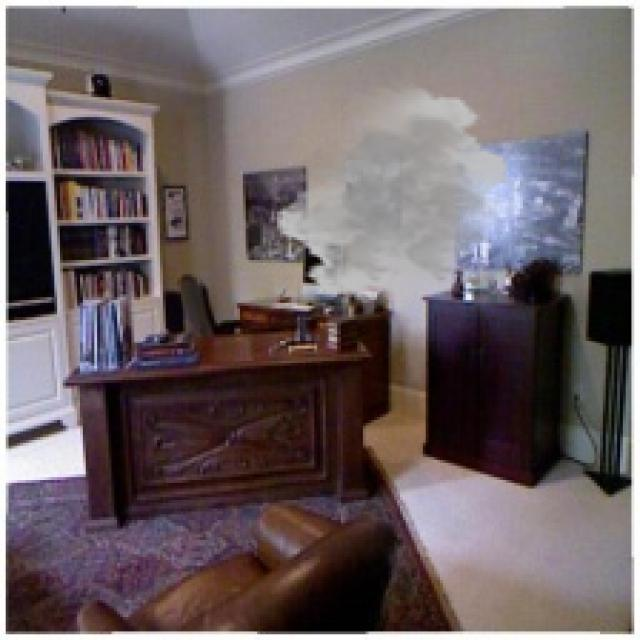smoke: (274, 83, 512, 308)
